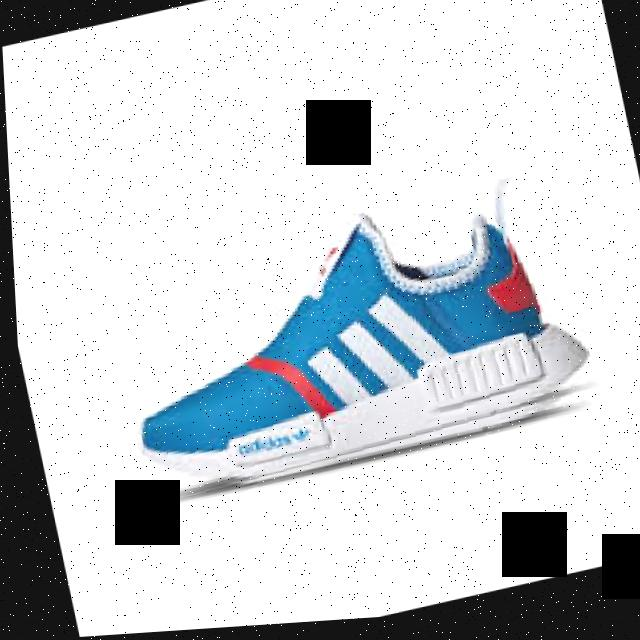shoe: (73, 172, 612, 515)
